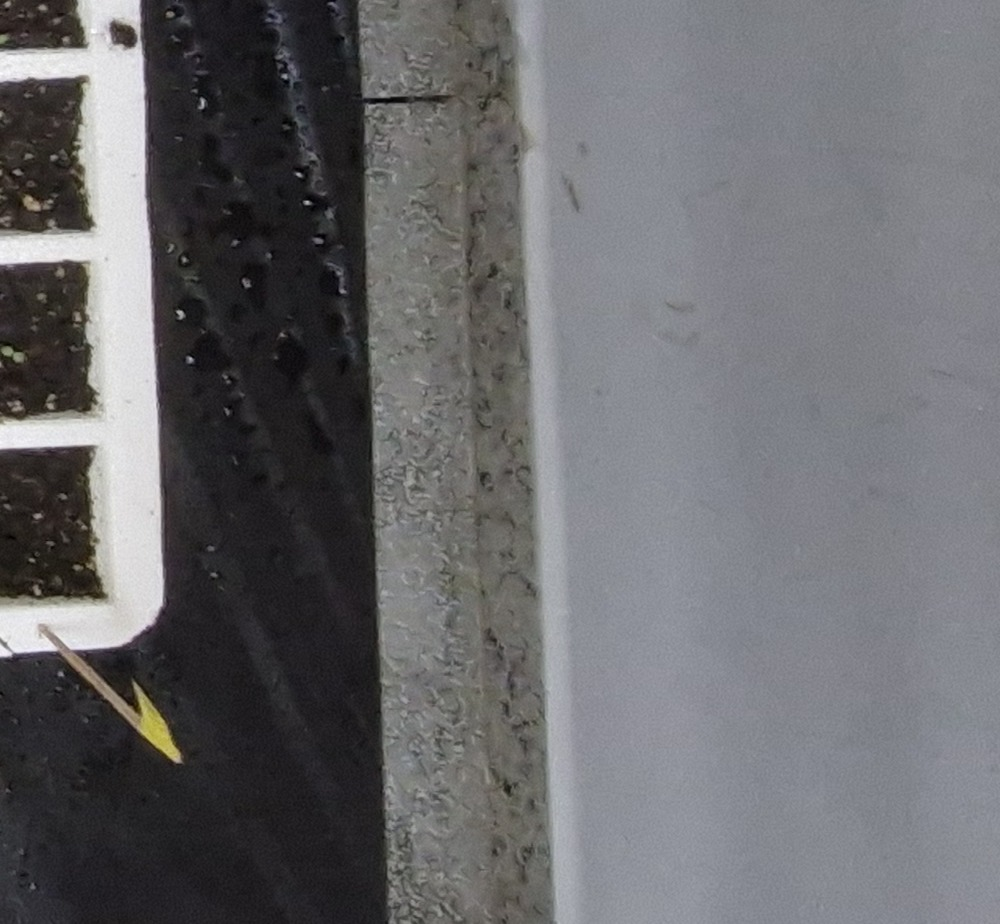Folha: (12, 352, 26, 363), (0, 346, 14, 356), (0, 34, 10, 44)
Germinacao: (0, 345, 27, 363), (0, 34, 10, 48)
